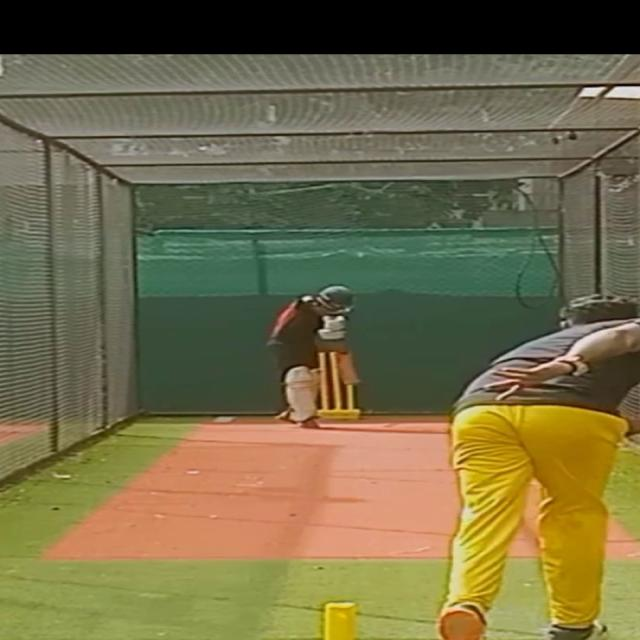stump: (316, 352, 356, 414)
